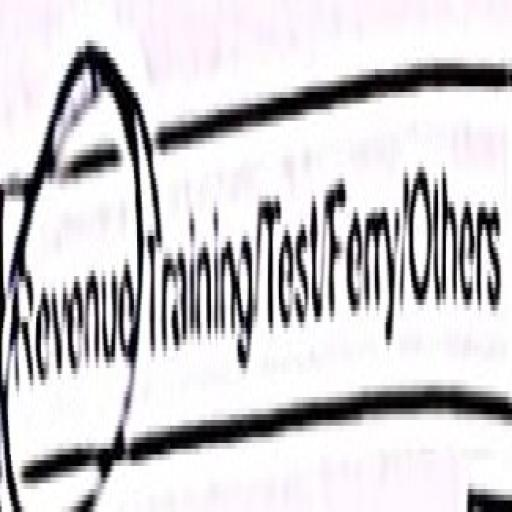check: (0, 13, 143, 512)
